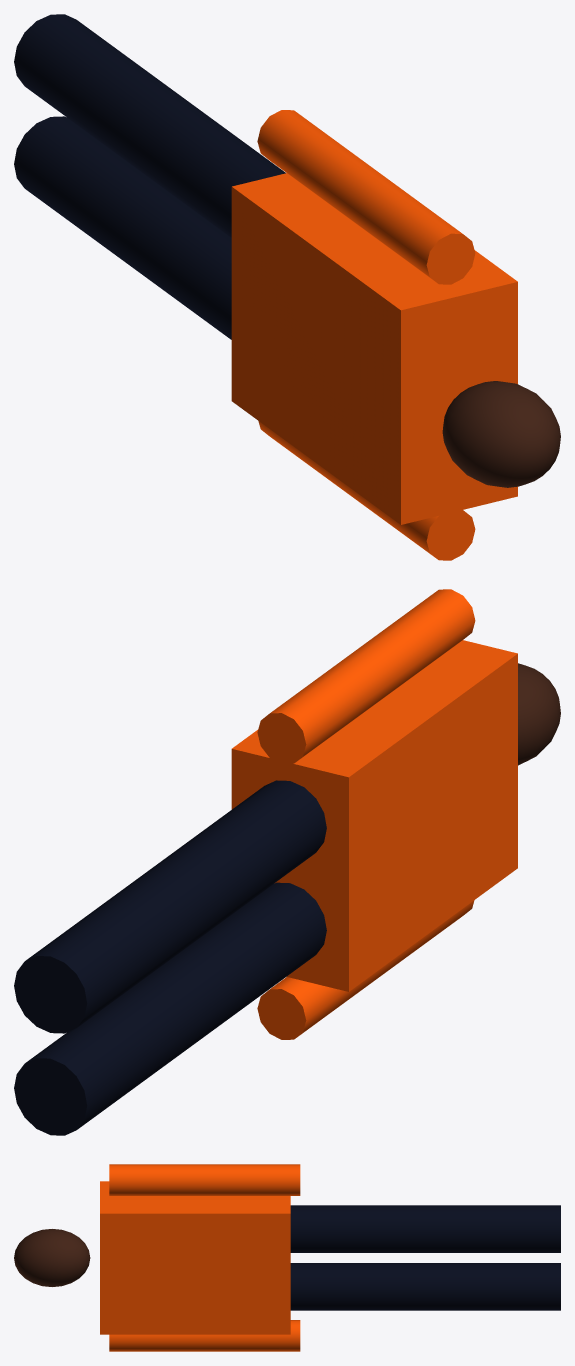
File: person.obj
3 views of the same model, one above another, from view 1: azimuth 30°, elevation 25°; view 2: azimuth 150°, elevation 25°; view 3: azimuth 270°, elevation 25° (orthographic). The views are drawn at different scales.
Parts seen in each view (by area): view 1: obstacle_person; view 2: obstacle_person; view 3: obstacle_person.
Part boxes in pixels (bbox=[...]): obstacle_person: bbox=[14, 14, 560, 560]; obstacle_person: bbox=[14, 589, 560, 1135]; obstacle_person: bbox=[14, 1164, 560, 1351].
Size of the model in its own units: 0.24 by 0.64 by 1.72.
